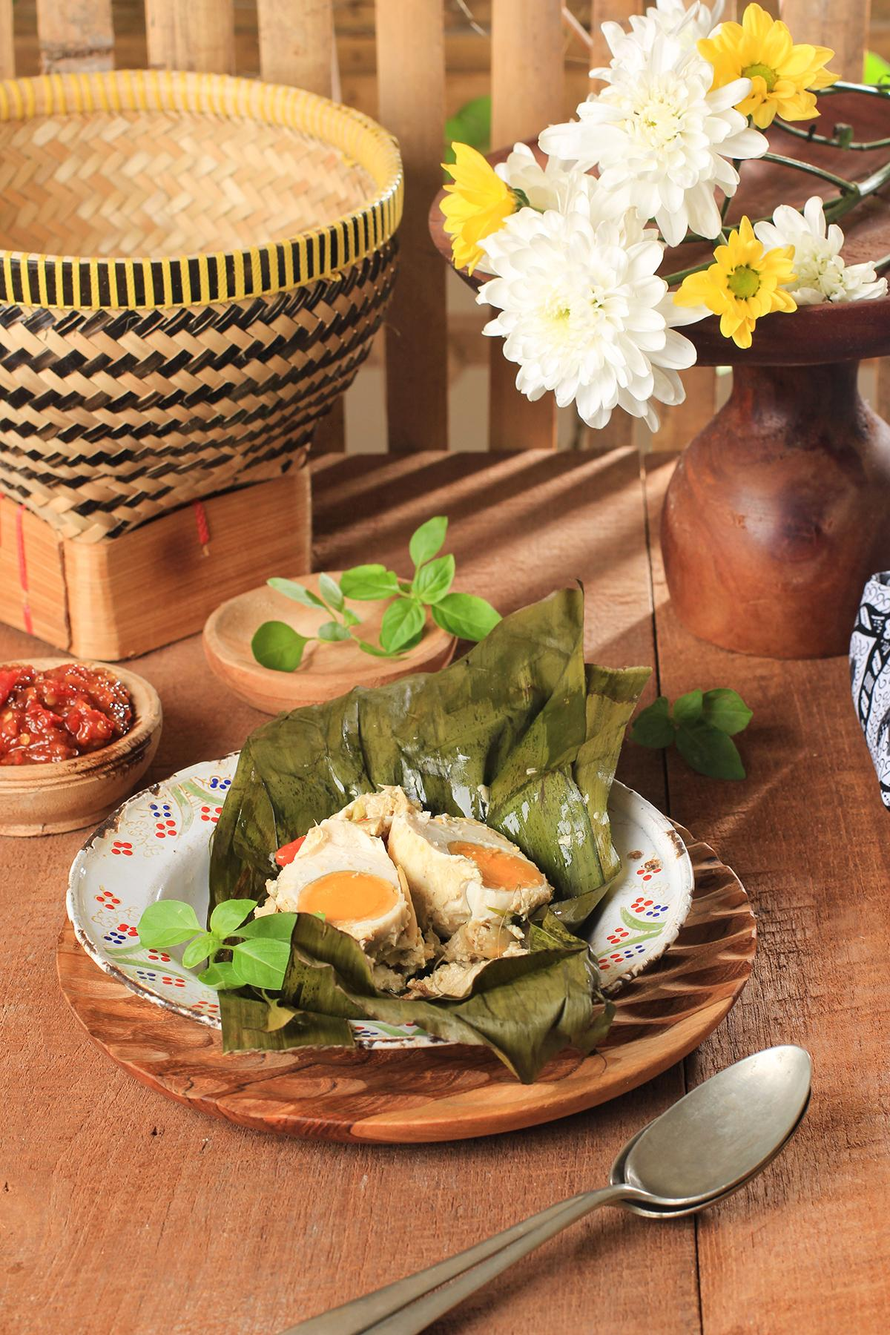buah_sayur_lainnya: (154, 912, 266, 975)
buah_sayur_vitA: (0, 677, 101, 741)
telur: (283, 844, 519, 931)
